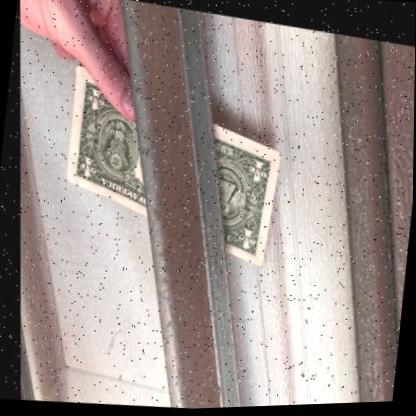dollar_back: (61, 63, 279, 266)
